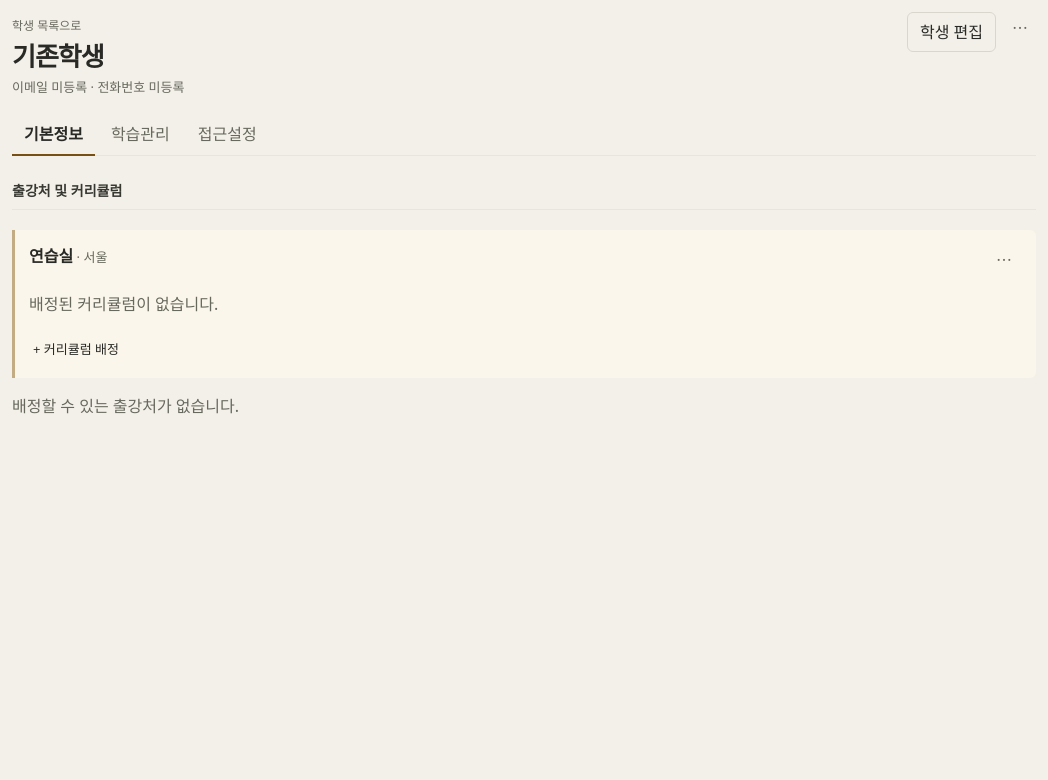
it: shows a conflict when the curriculum is already assigned at the location
Click the button "+ 커리큘럼 배정": (76, 350) [31,334,121,366]
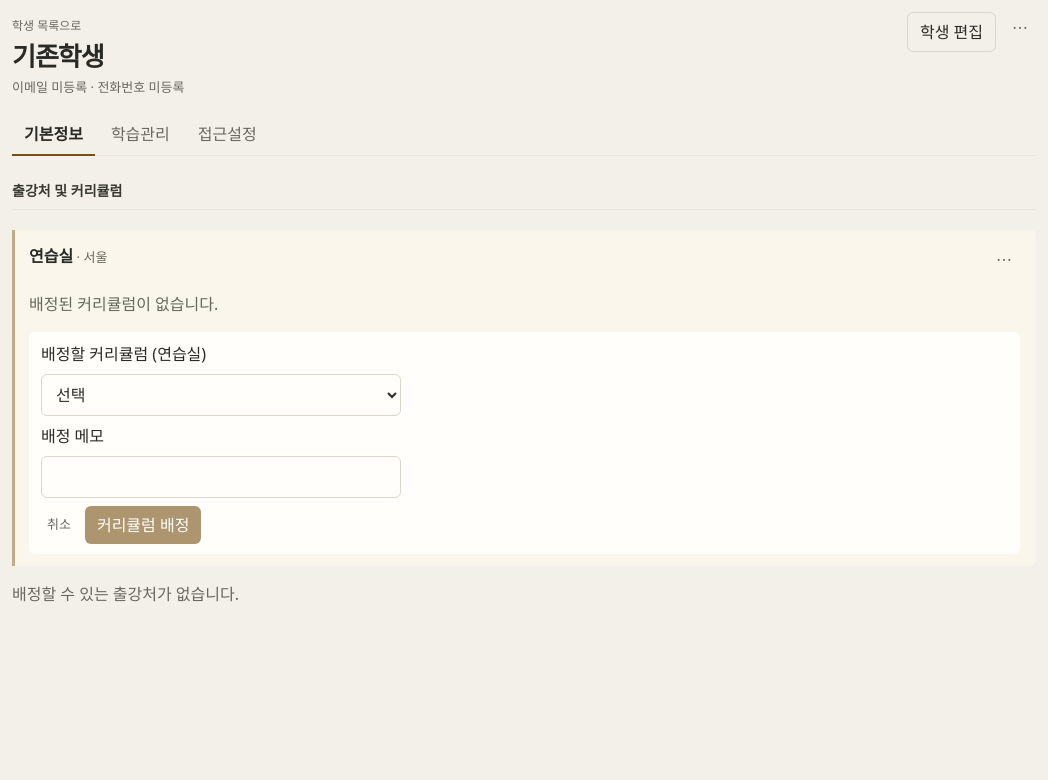
Select "기초" in the dropdown labelled "배정할 커리큘럼 (연습실)": (221, 394) [41,374,401,416]
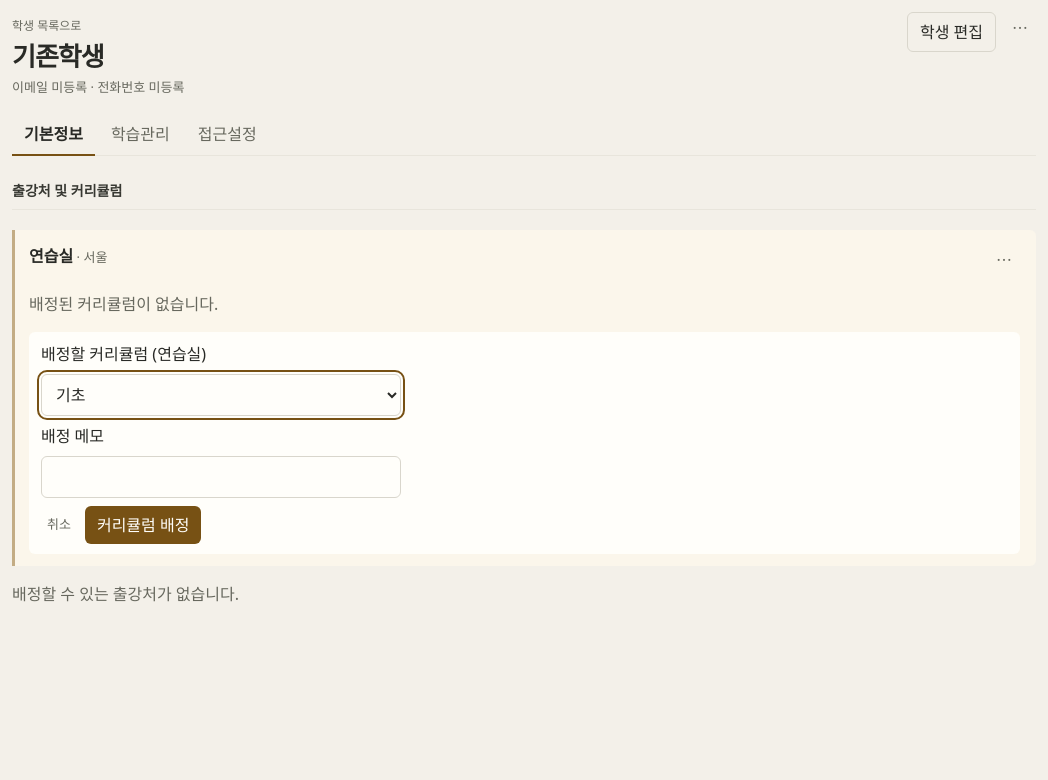
Click the button "커리큘럼 배정": (143, 524) [85,506,201,544]
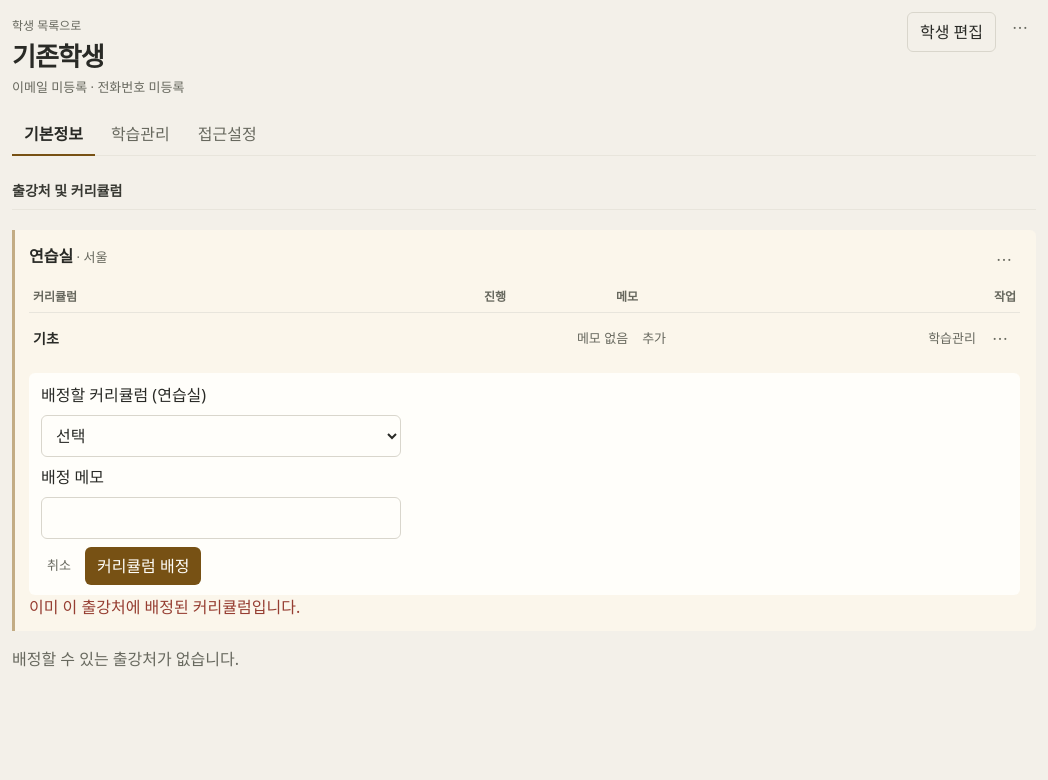
Check: the text "이미 이 출강처에 배정된 커리큘럼입니다." is shown, box [29,596,300,618]
